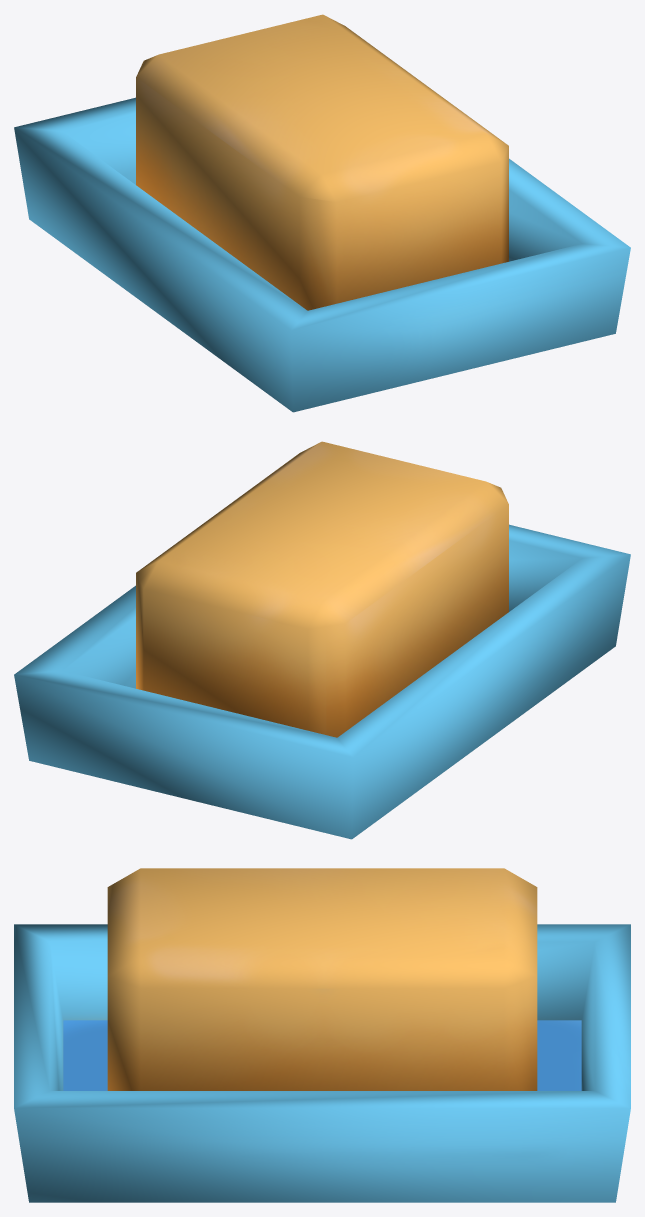
File: mantequilla.fbx
3 views of the same model, one above another, from view 1: azimuth 30°, elevation 25°; view 2: azimuth 150°, elevation 25°; view 3: azimuth 270°, elevation 25° (orthographic). The views are drawn at different scales.
Parts seen in each view (by area): view 1: Cube.001; view 2: Cube.001; view 3: Cube.001.
Part boxes in pixels (x1,y1,x2,y2): Cube.001: [14, 14, 630, 412]; Cube.001: [14, 441, 630, 839]; Cube.001: [14, 868, 630, 1202].
Bounding box in the file's own units: 50.62 × 25.96 × 71.69.
